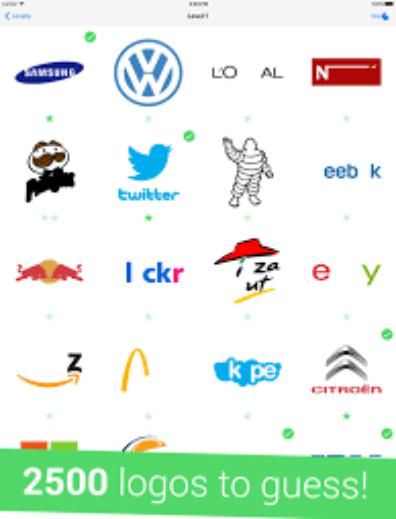GUESS: (259, 462, 359, 506)
